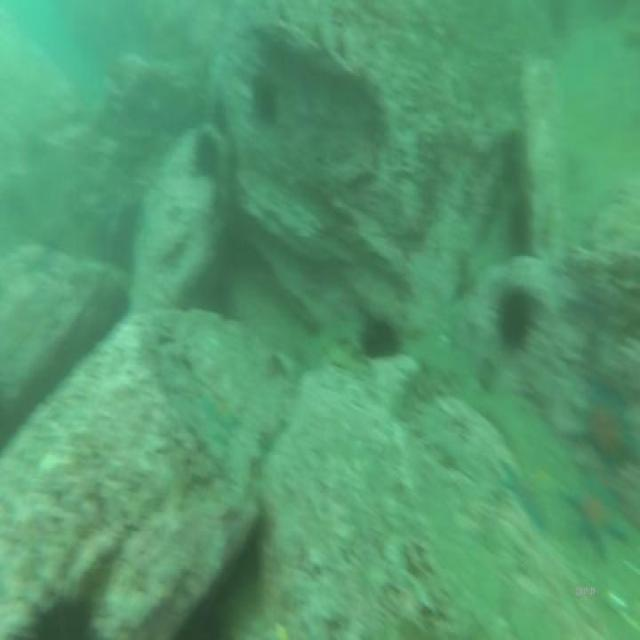echinus: (498, 283, 535, 355), (358, 308, 404, 364), (190, 128, 222, 182), (252, 78, 282, 130)
starfish: (569, 474, 630, 564), (580, 380, 634, 464)
